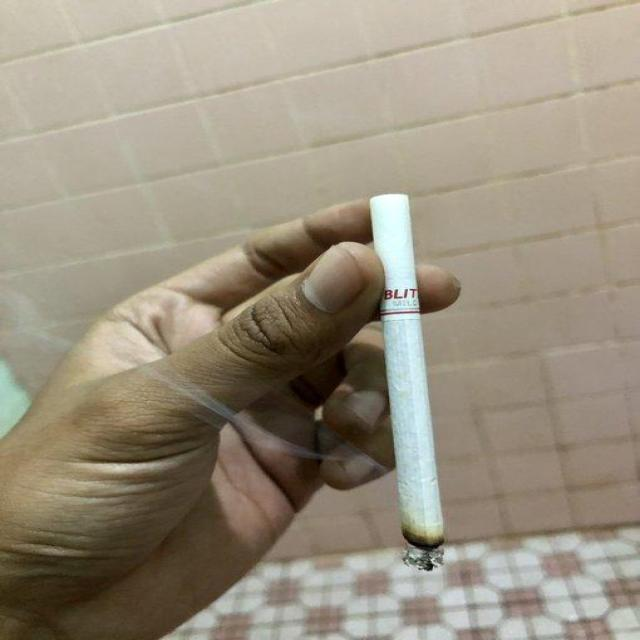rokok: (365, 186, 471, 570)
